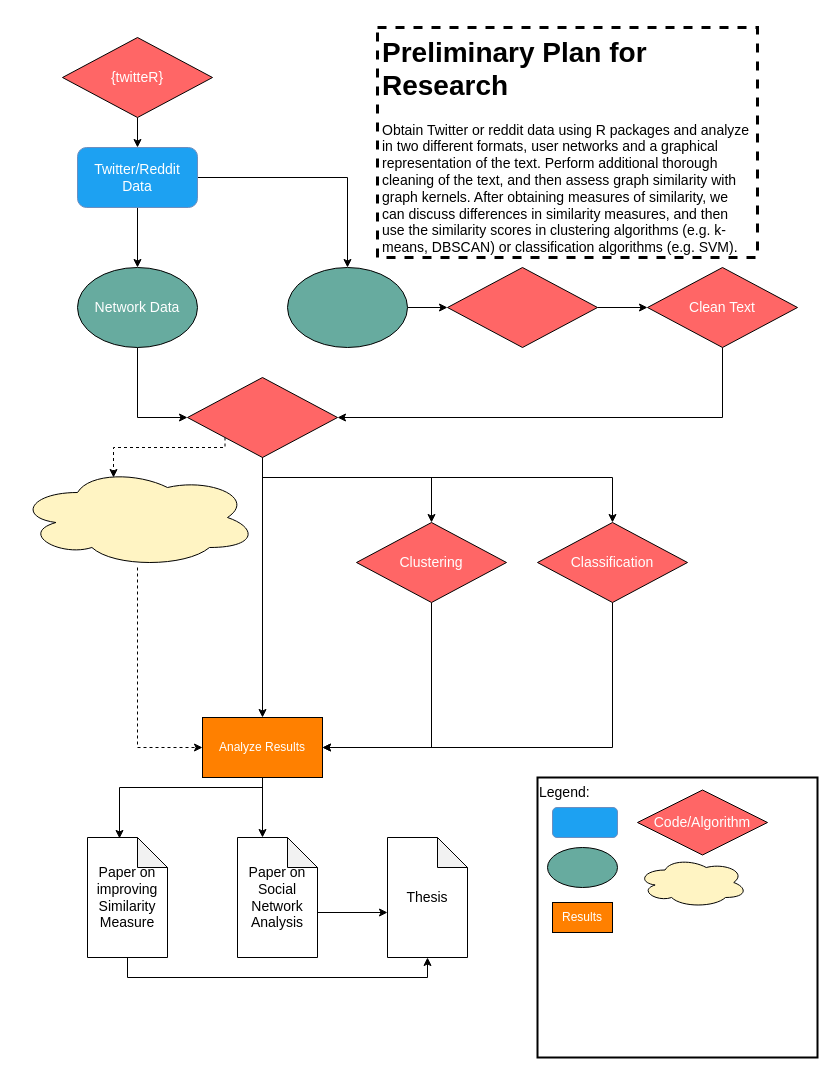
The diagram is 836 pixels wide and 1075 high, and some of its shapes have lost their labels. Here are the shapes that lost their labels. From the top down, the centre of each, then its label:
point (347, 307): User(s) Tweet Corpus
point (522, 307): Tokenize Text
point (262, 417): Graph Similarity
point (137, 517): Could improve with different optimization methods?
point (585, 822): Raw Data
point (582, 867): Clean Data
point (692, 882): Idea/Note
